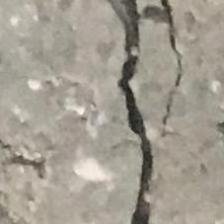Crack: (80, 0, 210, 224)
